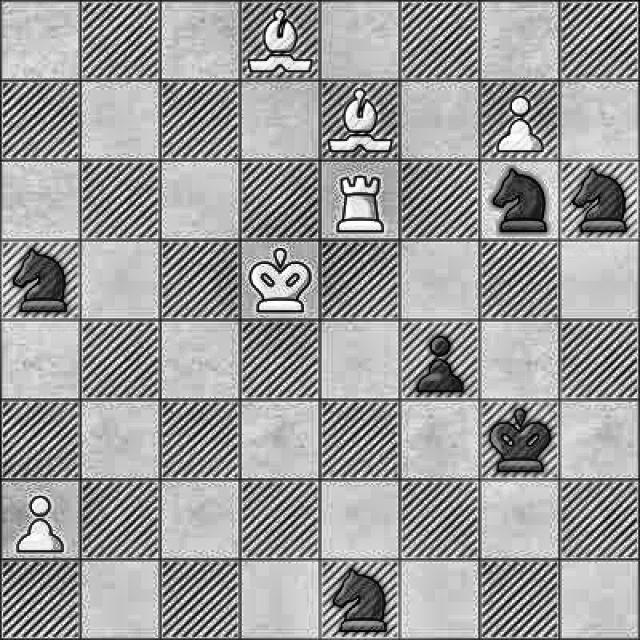Black Knight: (568, 161, 638, 239), (488, 164, 554, 240), (326, 563, 394, 632), (10, 244, 71, 316)
black king: (491, 407, 553, 478)
black pawn: (409, 328, 472, 399)
white bishop: (328, 85, 393, 158), (246, 10, 314, 75)
white king: (249, 244, 315, 314)
white pawn: (5, 488, 76, 560), (488, 86, 549, 156)
white rook: (331, 174, 391, 237)
